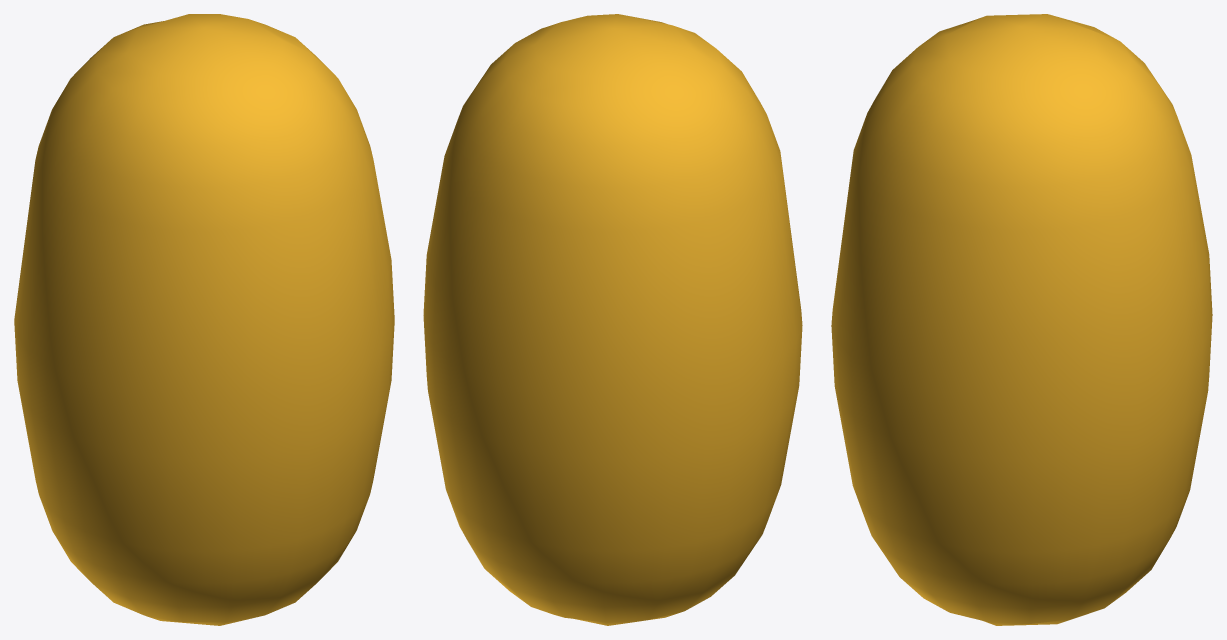
Rendered from nervoso-motor-root-of-trigeminal-nerve-r.glb.
3 renders of one model, left to right at view 1: azimuth 30°, elevation 25°; view 2: azimuth 150°, elevation 25°; view 3: azimuth 270°, elevation 25°, orthographic.
Parts seen in each view (by area): view 1: Motor root of trigeminal nerve.r; view 2: Motor root of trigeminal nerve.r; view 3: Motor root of trigeminal nerve.r.
Part boxes in pixels (bbox=[...]): Motor root of trigeminal nerve.r: bbox=[14, 14, 394, 625]; Motor root of trigeminal nerve.r: bbox=[423, 14, 802, 625]; Motor root of trigeminal nerve.r: bbox=[831, 14, 1212, 625].
Bounding box in the file's own units: 0.0019 × 0.00323 × 0.0019.
